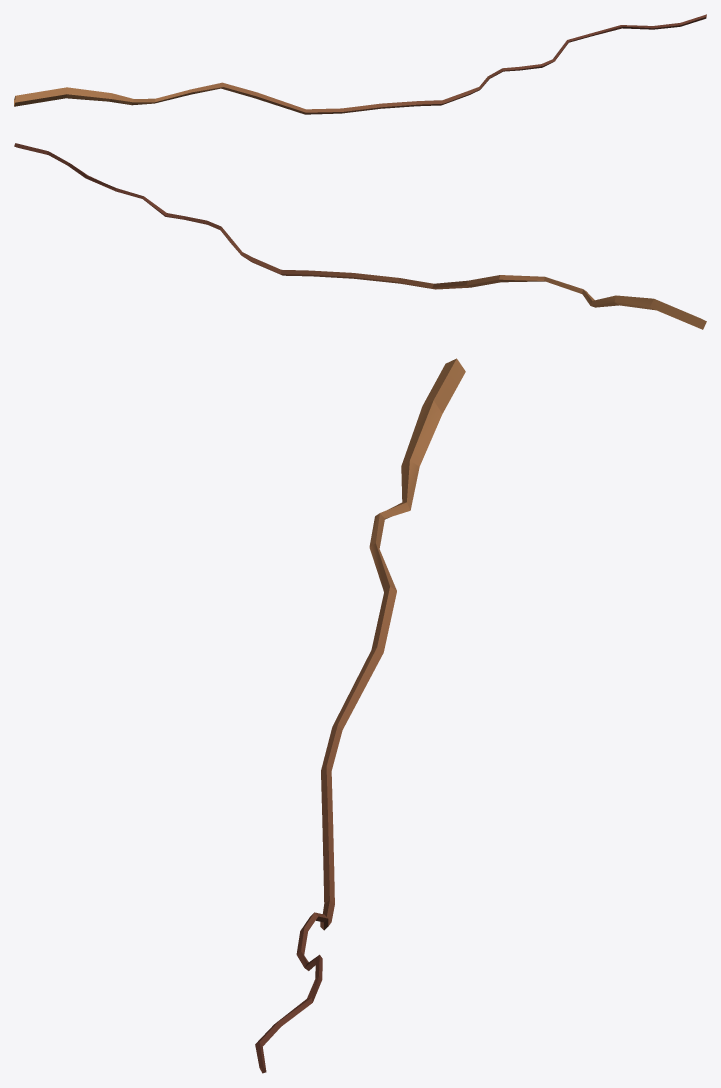
File: ZLP_Plant_Vine_A_4.FBX
3 renders of one model, top to bottom at view 1: azimuth 30°, elevation 25°; view 2: azimuth 150°, elevation 25°; view 3: azimuth 270°, elevation 25°, orthographic. The views are drawn at different scales.
Visible parts, largest first — view 1: ZLP_Plant_Vine_A_4; view 2: ZLP_Plant_Vine_A_4; view 3: ZLP_Plant_Vine_A_4.
Part boxes in pixels (bbox=[...]): ZLP_Plant_Vine_A_4: bbox=[14, 14, 706, 114]; ZLP_Plant_Vine_A_4: bbox=[14, 143, 706, 329]; ZLP_Plant_Vine_A_4: bbox=[255, 358, 465, 1073].
Size of the model in its own units: 1137 by 141 by 160.
